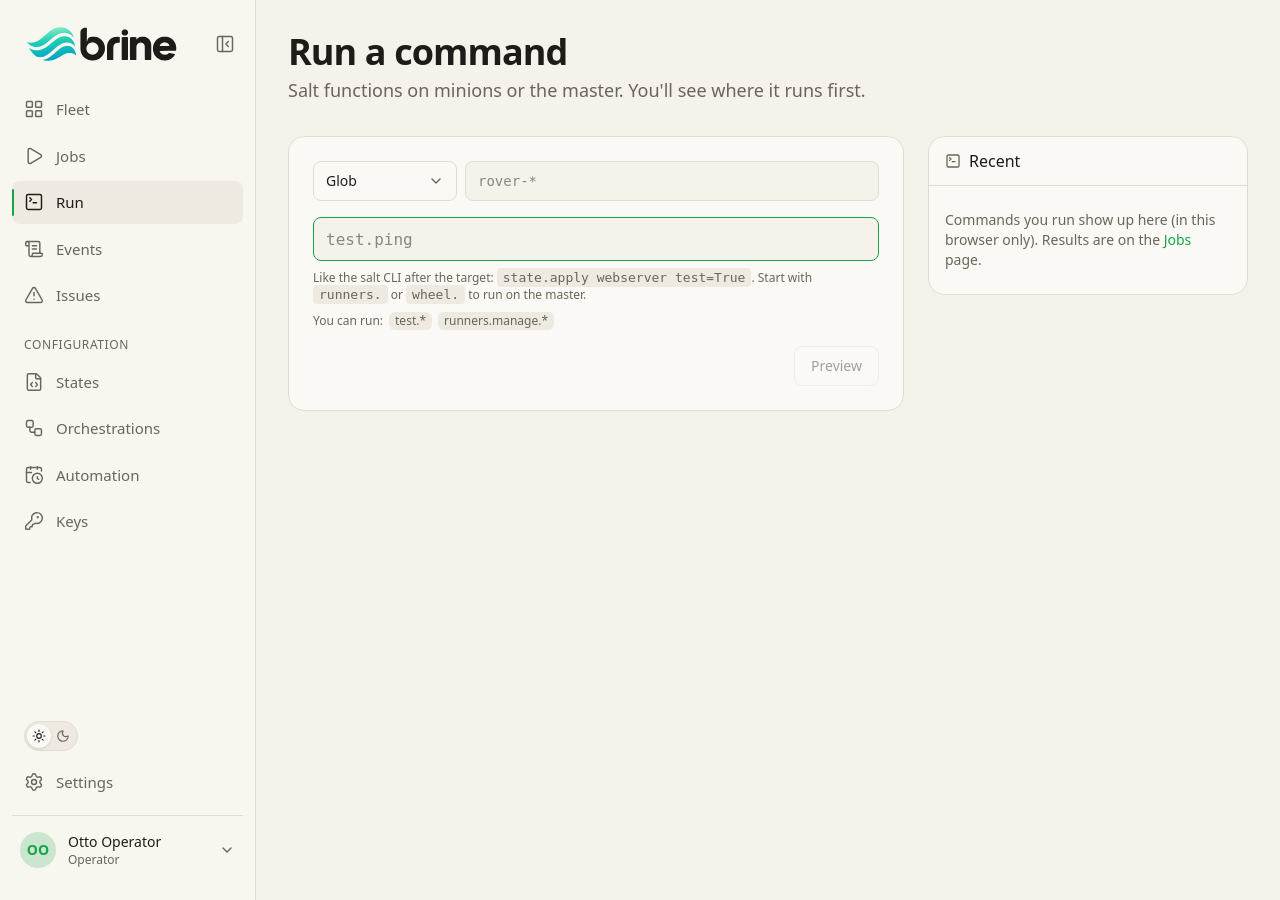
it: RunPage › says why a command is refused
The image size is (1280, 900).
Type "*" into the field named "Target" at (672,181), box [465,161,879,201]
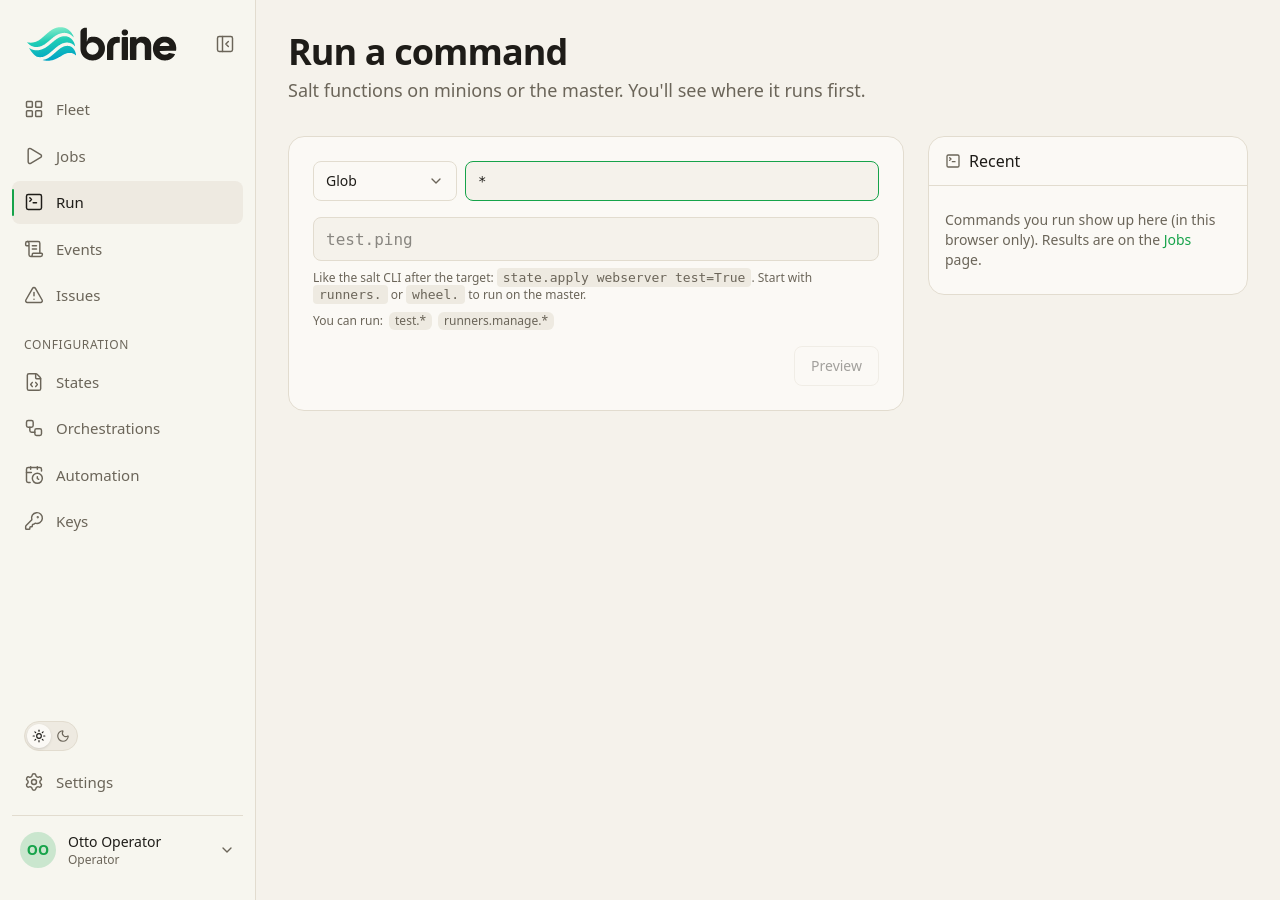
Type "cmd.run reboot" into the field named "Command" at (596,239), box [313,217,879,261]
Then press Enter
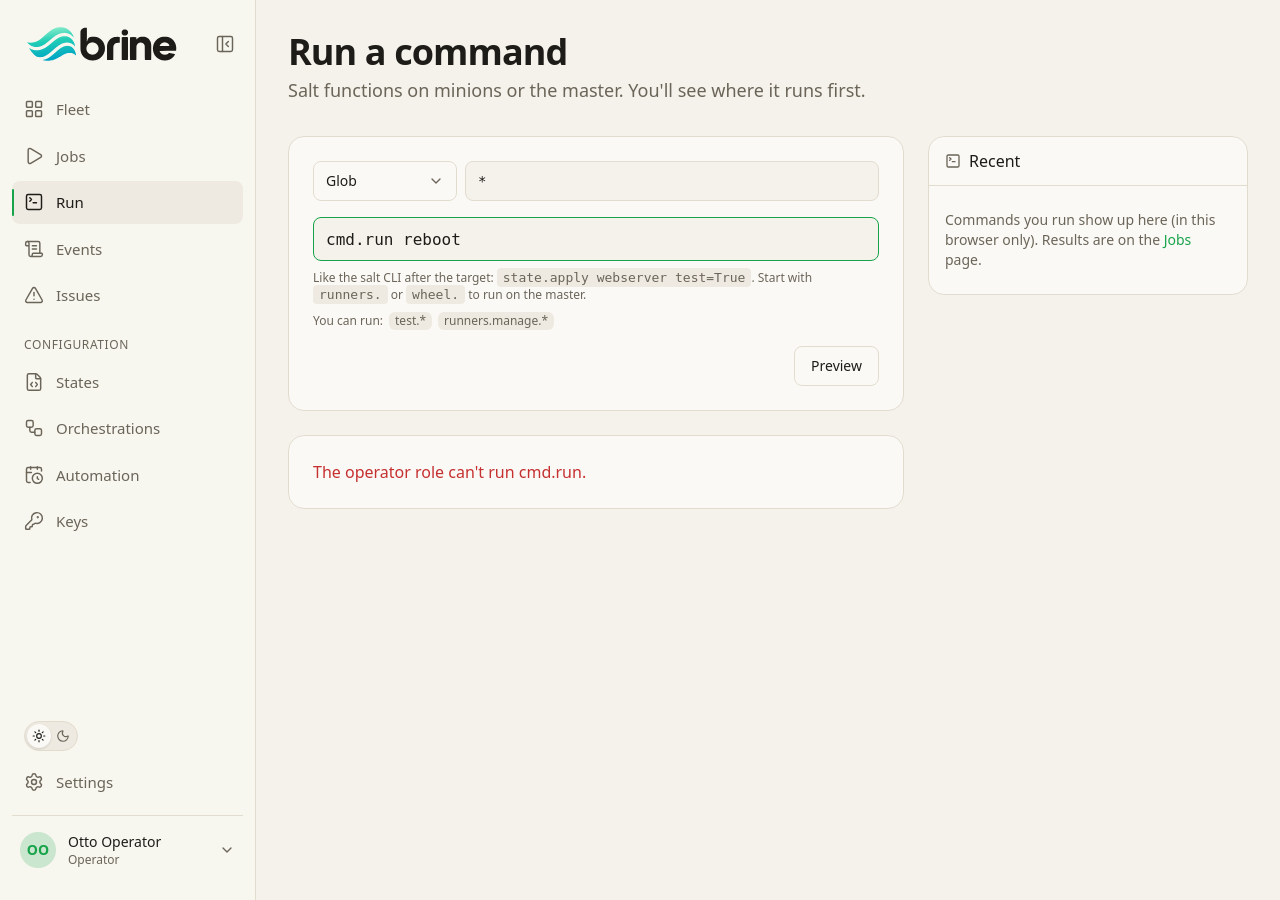
Check: the message reads "The operator role can't run cmd.run.", box [313,461,586,483]
